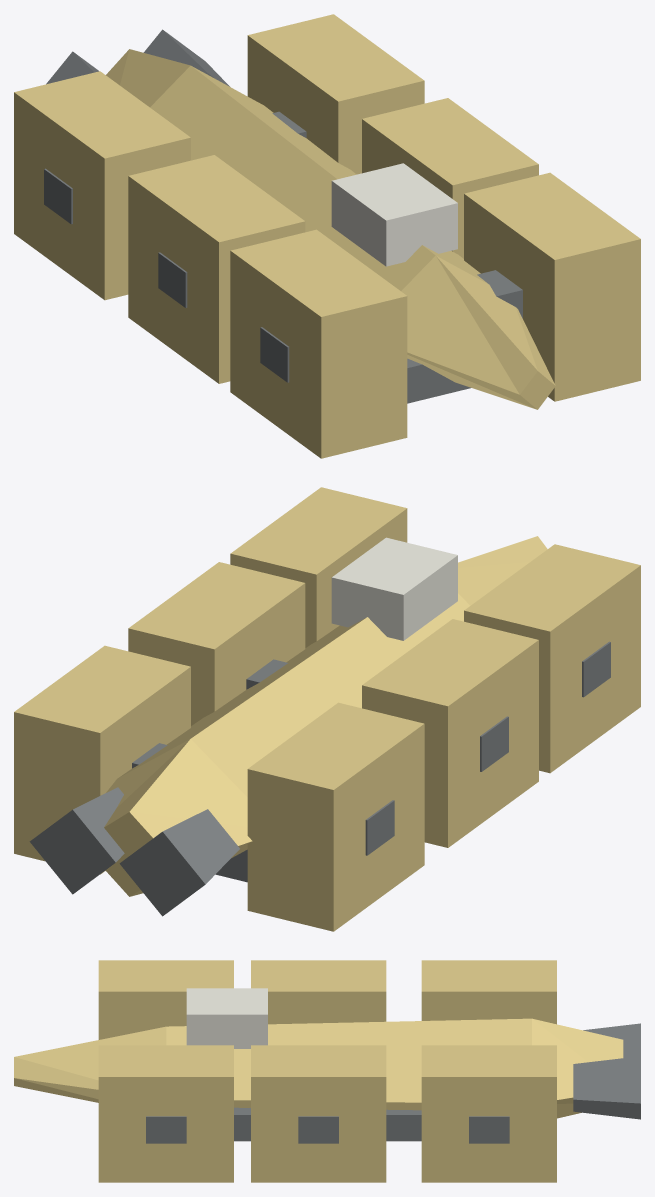
The picture shows the model from 3 angles, top to bottom: view 1: azimuth 30°, elevation 25°; view 2: azimuth 150°, elevation 25°; view 3: azimuth 270°, elevation 25°; orthographic projection. The views are drawn at different scales.
Size of the model in its own units: 3.74 by 1.82 by 8.43.
